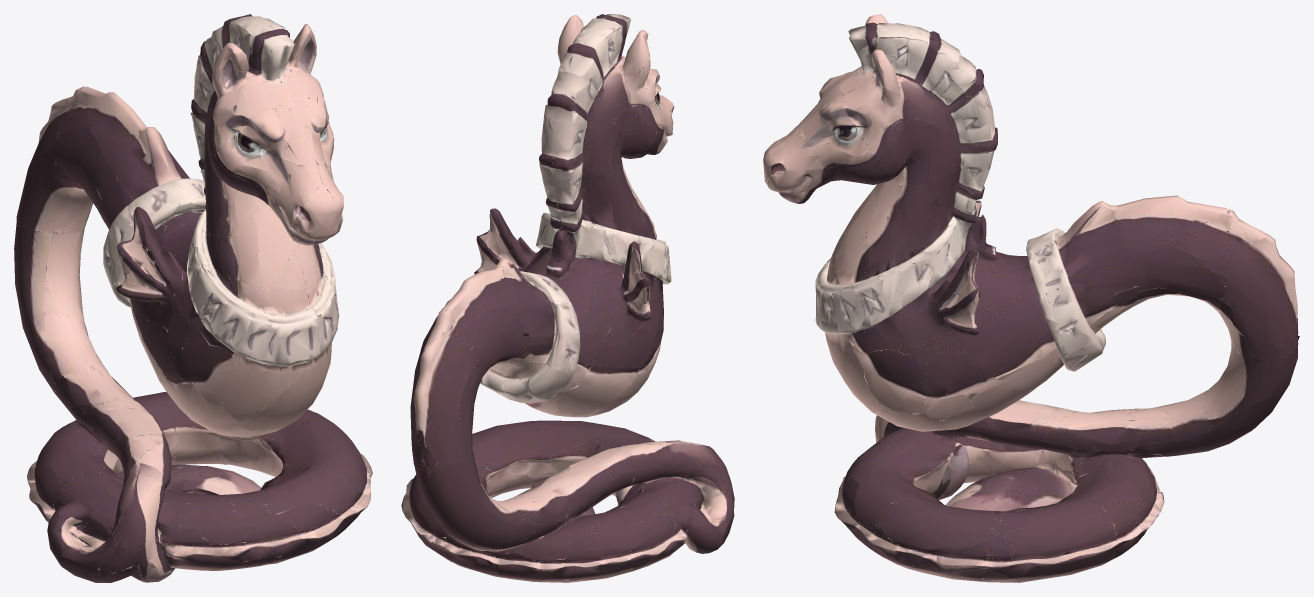
The picture shows the model from 3 angles, left to right: view 1: azimuth 30°, elevation 25°; view 2: azimuth 150°, elevation 25°; view 3: azimuth 270°, elevation 25°; orthographic projection. The views are drawn at different scales.
Visible parts, largest first — view 1: Mesh_0; view 2: Mesh_0; view 3: Mesh_0.
Boxes of the visible parts, x1,y1,x2,y2 form: Mesh_0: (14, 14, 372, 582); Mesh_0: (401, 14, 734, 582); Mesh_0: (763, 14, 1299, 582).
Size of the model in its own units: 1.16 by 1.9 by 1.82.
1 material, 1 textured.
